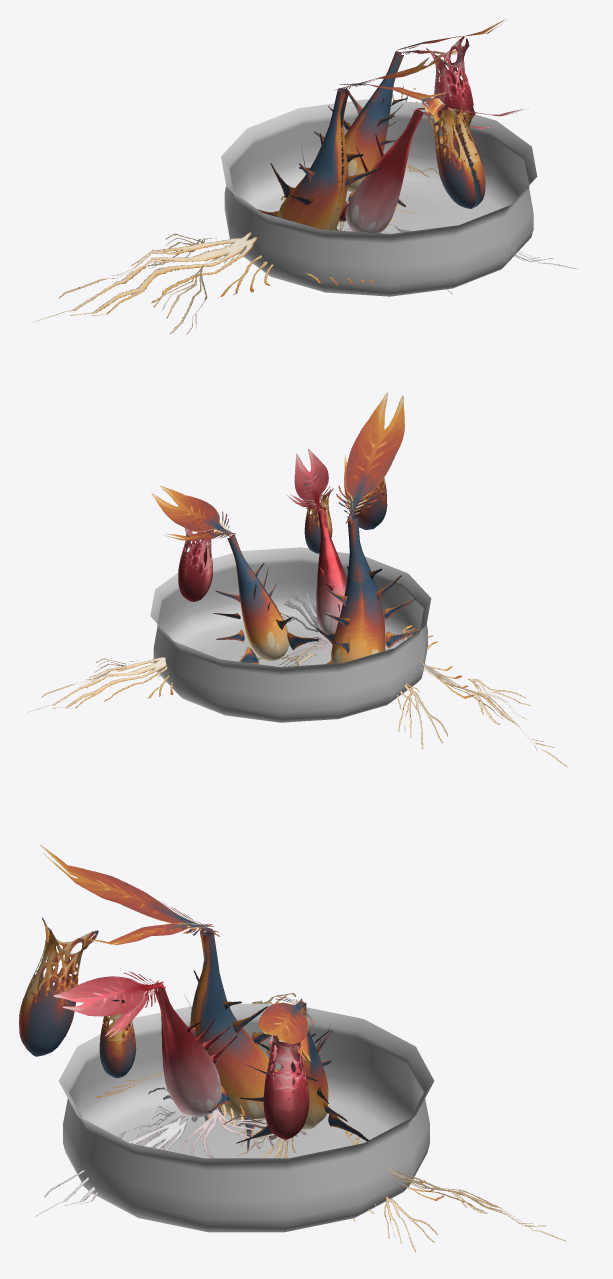
3 renders of one model, top to bottom at view 1: azimuth 30°, elevation 25°; view 2: azimuth 150°, elevation 25°; view 3: azimuth 270°, elevation 25°, orthographic. The views are drawn at different scales.
Parts seen in each view (by area): view 1: A04.003; view 2: A04.003; view 3: A04.003.
Part boxes in pixels (bbox=[...]): A04.003: bbox=[33, 19, 577, 334]; A04.003: bbox=[27, 392, 567, 767]; A04.003: bbox=[19, 844, 566, 1252].
Size of the model in its own units: 1407 by 746 by 1138.
